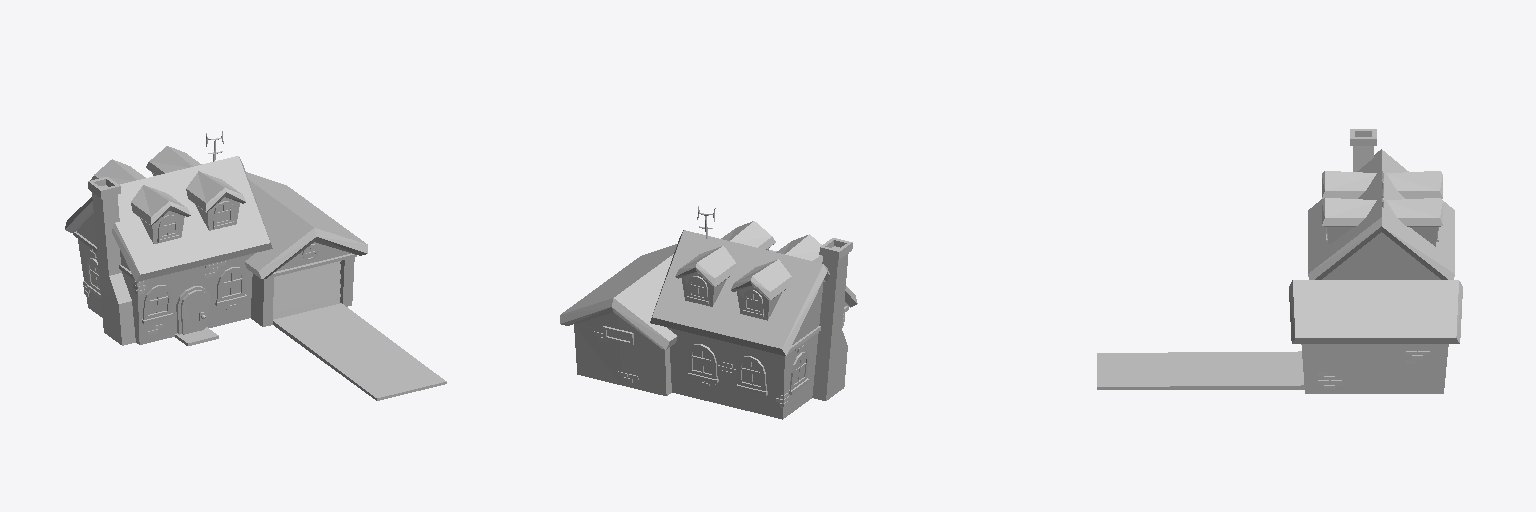
Rendered from House_08.obj.
The picture shows the model from 3 angles: view 1: azimuth 30°, elevation 25°; view 2: azimuth 150°, elevation 25°; view 3: azimuth 270°, elevation 25°; orthographic projection.
Parts seen in each view (by area): view 1: House_08; view 2: House_08; view 3: House_08.
Boxes of the visible parts, box(x1,y1,x2,y2) form: House_08: box(65, 131, 446, 400); House_08: box(560, 206, 857, 419); House_08: box(1097, 129, 1462, 393).
Bounding box in the file's own units: 602 × 410 × 797.